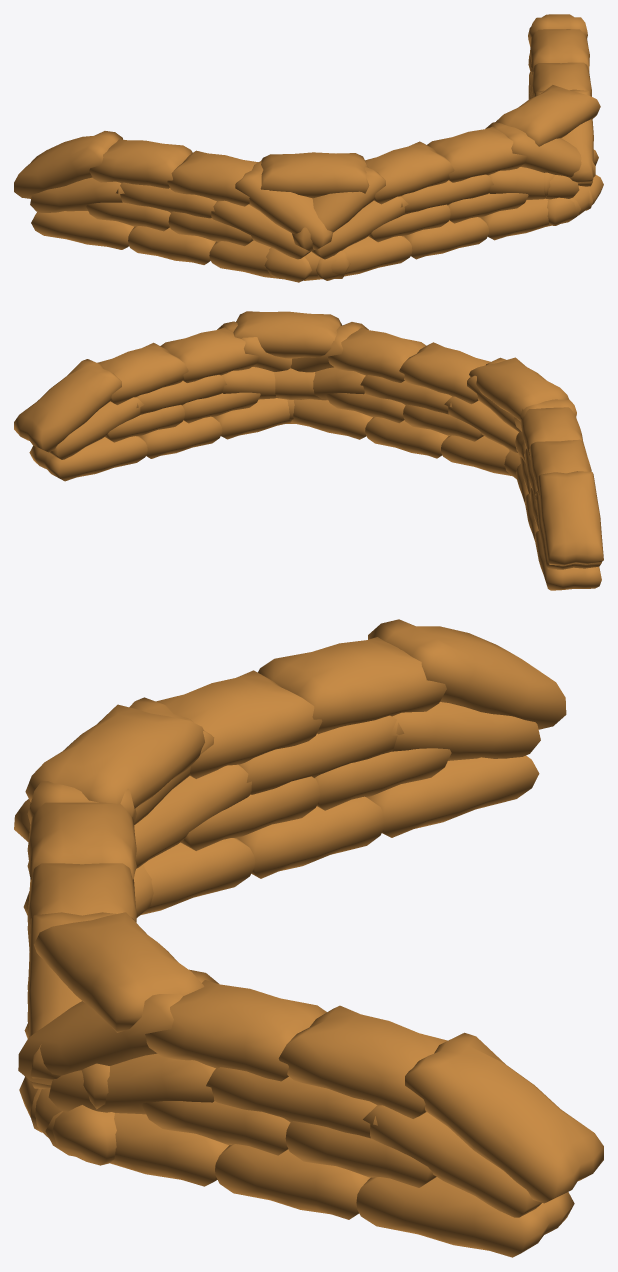
The model's file is sandbag_round.FBX.
The picture shows the model from 3 angles, top to bottom: view 1: azimuth 30°, elevation 25°; view 2: azimuth 150°, elevation 25°; view 3: azimuth 270°, elevation 25°; orthographic projection. The views are drawn at different scales.
Visible parts, largest first — view 1: sandbag_round; view 2: sandbag_round; view 3: sandbag_round.
Boxes of the visible parts, box(x1,y1,x2,y2) form: sandbag_round: box(14, 14, 603, 282); sandbag_round: box(14, 311, 603, 590); sandbag_round: box(14, 619, 603, 1257).
Bounding box in the file's own units: 283 × 136 × 52.09.
